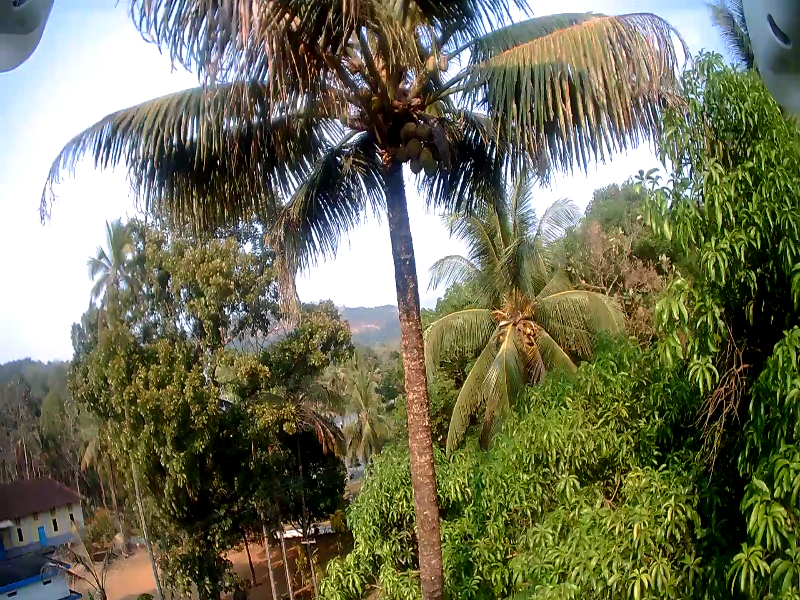coconut: (356, 86, 374, 104), (421, 159, 433, 181), (435, 55, 448, 75), (407, 157, 421, 172), (422, 53, 434, 70), (418, 148, 430, 163), (407, 140, 419, 154), (402, 120, 413, 132)
